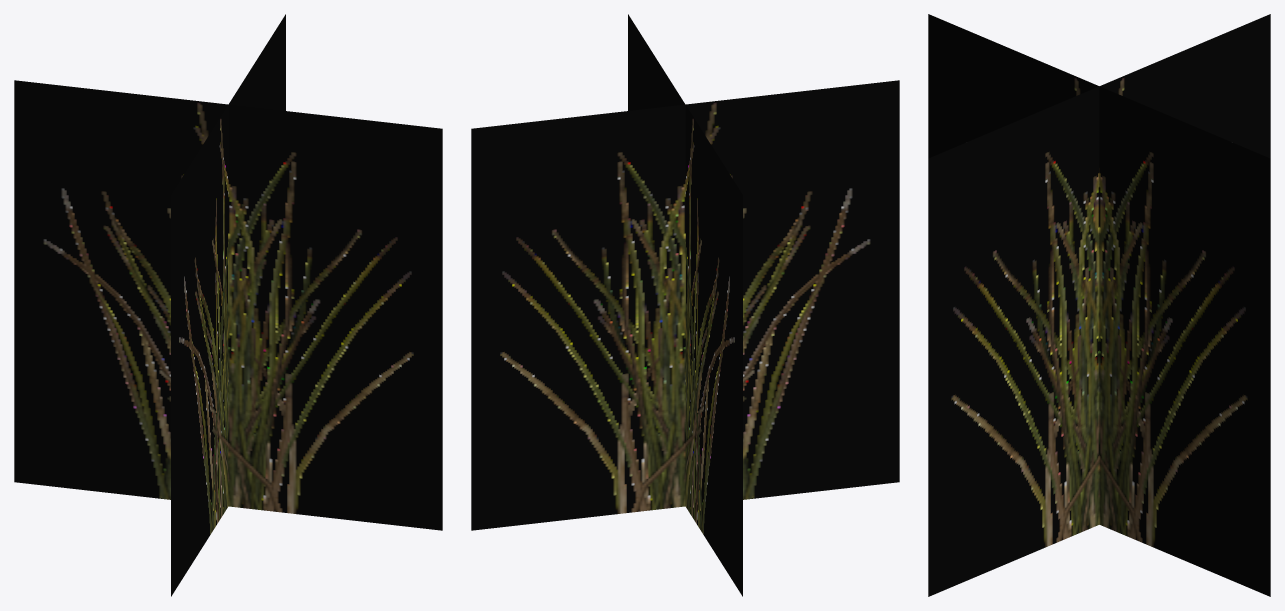
Rendered from Grama2.fbx.
The picture shows the model from 3 angles, left to right: view 1: azimuth 30°, elevation 25°; view 2: azimuth 150°, elevation 25°; view 3: azimuth 270°, elevation 25°; orthographic projection. The views are drawn at different scales.
Visible parts, largest first — view 1: Grama2; view 2: Grama2; view 3: Grama2.
Boxes of the visible parts, box(x1,y1,x2,y2) form: Grama2: box(14, 14, 442, 596); Grama2: box(471, 14, 899, 596); Grama2: box(928, 14, 1270, 596).
Size of the model in its own units: 64.47 by 91.17 by 64.47.
